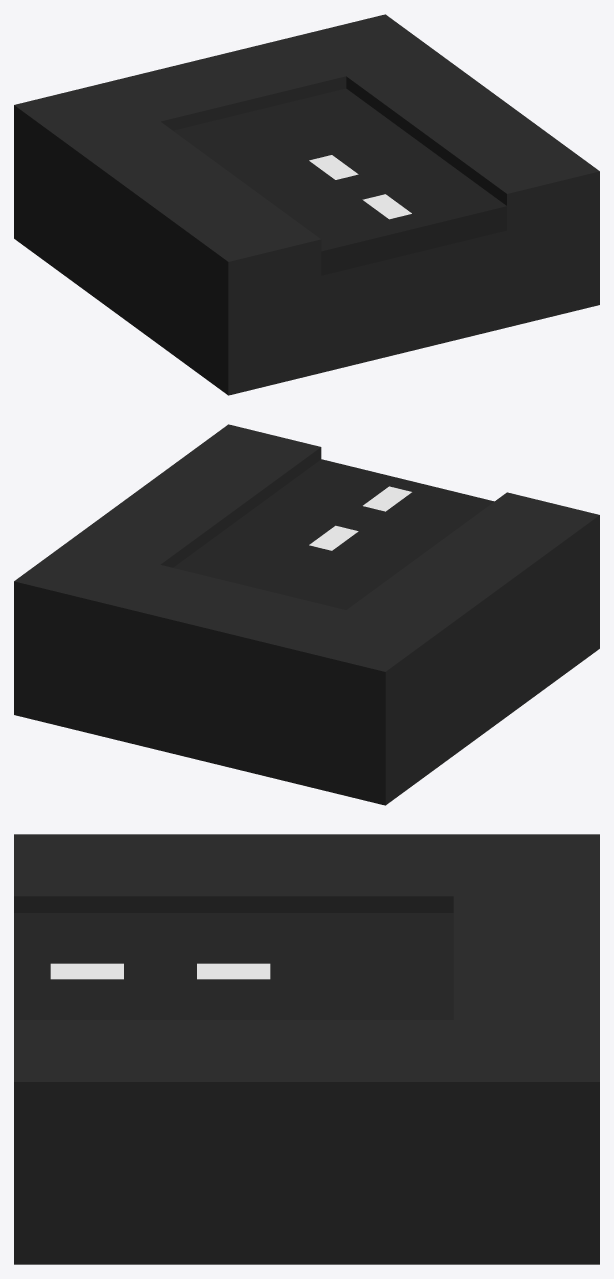
File: city-road.obj
3 renders of one model, top to bottom at view 1: azimuth 30°, elevation 25°; view 2: azimuth 150°, elevation 25°; view 3: azimuth 270°, elevation 25°, orthographic. The views are drawn at different scales.
Parts seen in each view (by area): view 1: grass, road, plane; view 2: grass, road, plane; view 3: grass, road, plane.
Boxes of the visible parts, <box> form: grass: <box>14,14,599,395</box>; road: <box>173,88,506,275</box>; plane: <box>309,155,411,219</box>; grass: <box>14,424,599,805</box>; road: <box>173,459,494,609</box>; plane: <box>309,486,411,550</box>; grass: <box>14,834,599,1264</box>; road: <box>14,913,453,1019</box>; plane: <box>50,963,270,979</box>.
Bounding box in the file's own units: 0.25 × 0.0859 × 0.25.
Materials: 1 (1 with a texture image).
